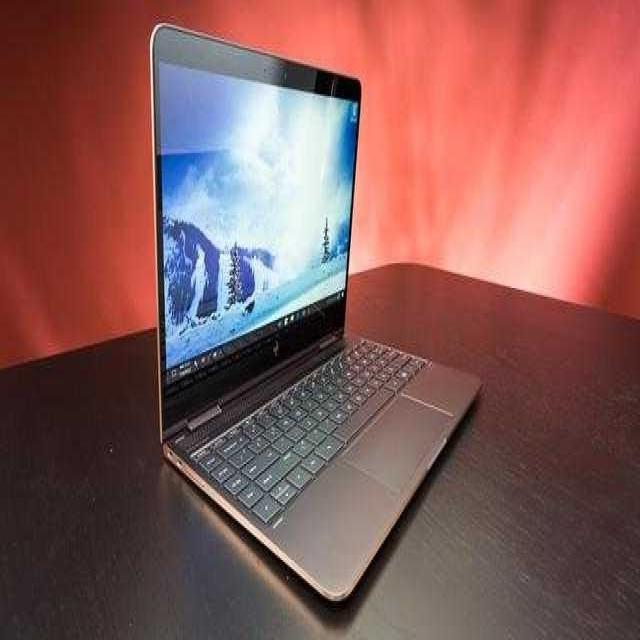laptop: (147, 41, 440, 580)
